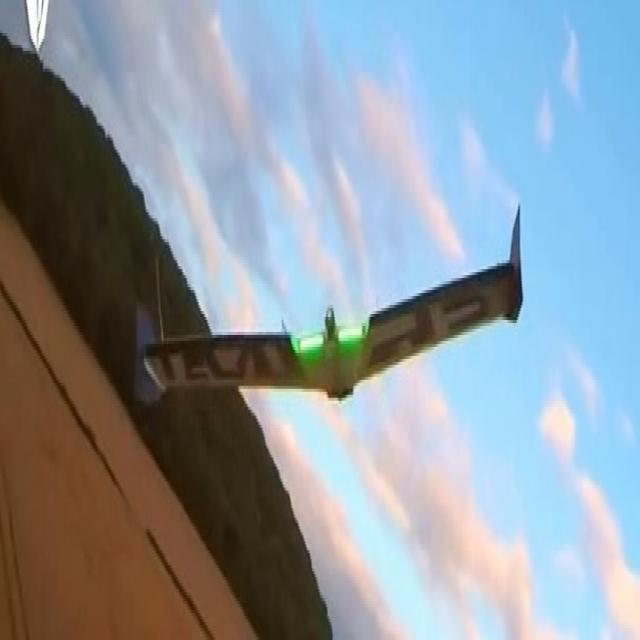iha: (130, 196, 539, 406)
